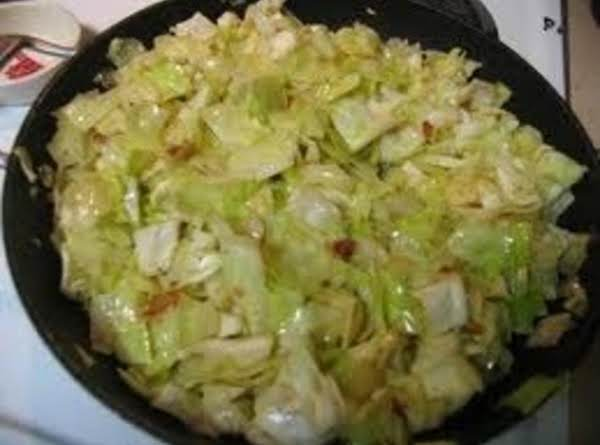chinese_cabbage: (90, 49, 520, 368), (99, 266, 328, 384), (187, 218, 382, 342), (249, 313, 463, 420), (287, 30, 484, 136), (348, 252, 525, 369), (182, 87, 373, 190), (373, 115, 548, 223), (286, 181, 483, 276), (46, 158, 221, 258), (467, 151, 577, 307), (87, 32, 253, 124)
